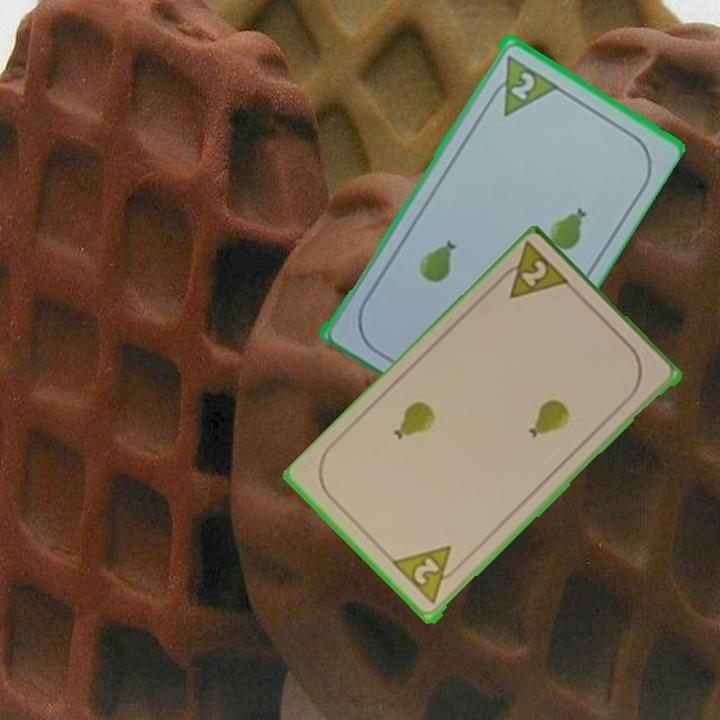2p: (491, 240, 575, 303), (390, 542, 466, 608), (506, 67, 538, 103)
